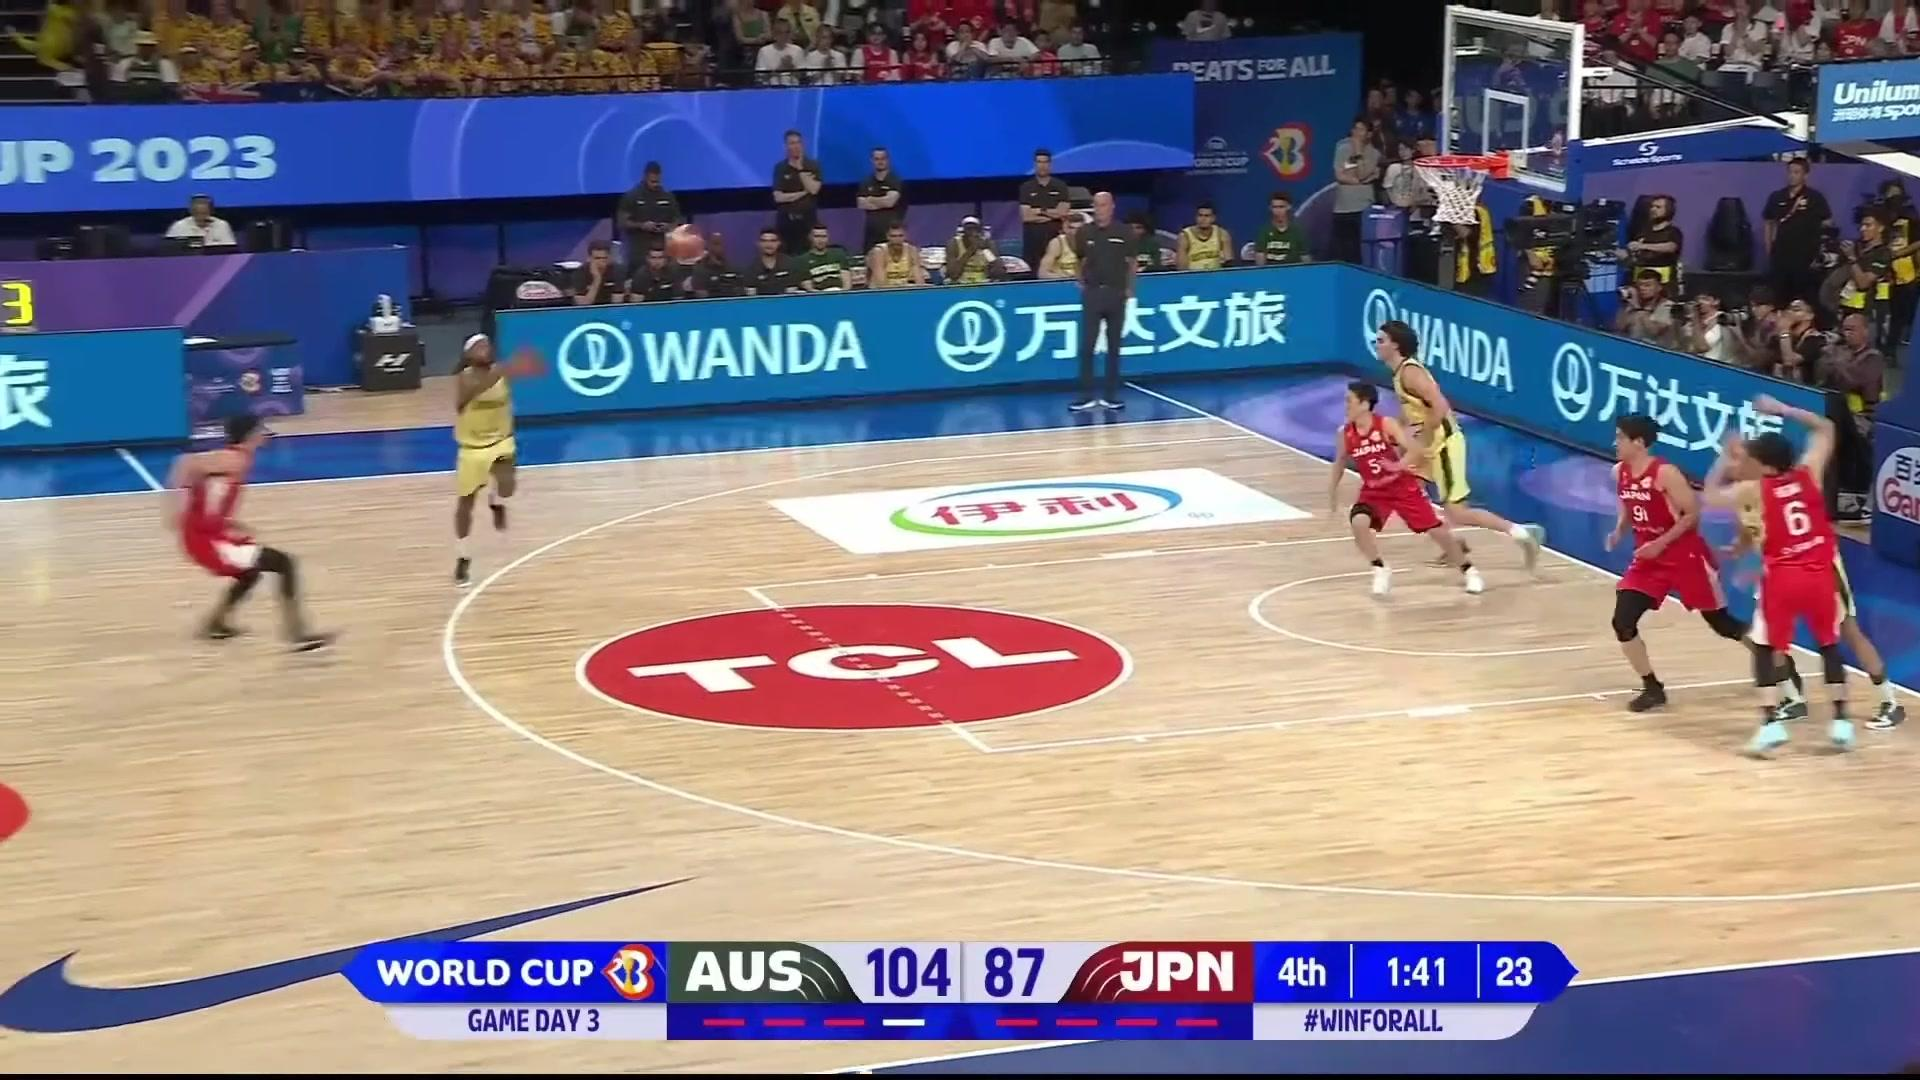no_foul: (375, 322, 562, 607)
